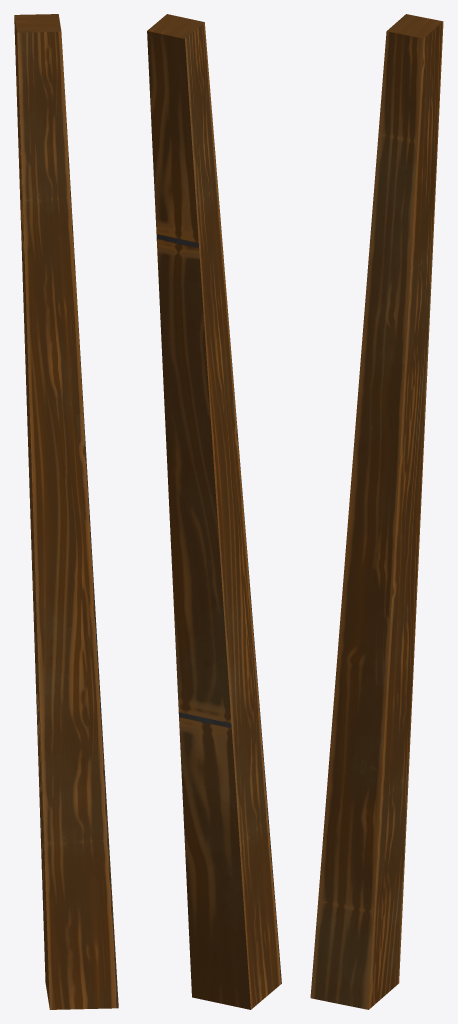
3 views of the same model, side by side, from view 1: azimuth 90°, elevation 25°; view 2: azimuth 150°, elevation 25°; view 3: azimuth 330°, elevation 25° (orthographic).
Parts seen in each view (by area): view 1: Cube.1502; view 2: Cube.1502; view 3: Cube.1502.
Boxes of the visible parts, bbox=[...] form: Cube.1502: bbox=[14, 14, 118, 1009]; Cube.1502: bbox=[147, 14, 281, 1009]; Cube.1502: bbox=[310, 14, 443, 1009].
Size of the model in its own units: 125 by 1312 by 130.
1 material, 1 textured.
